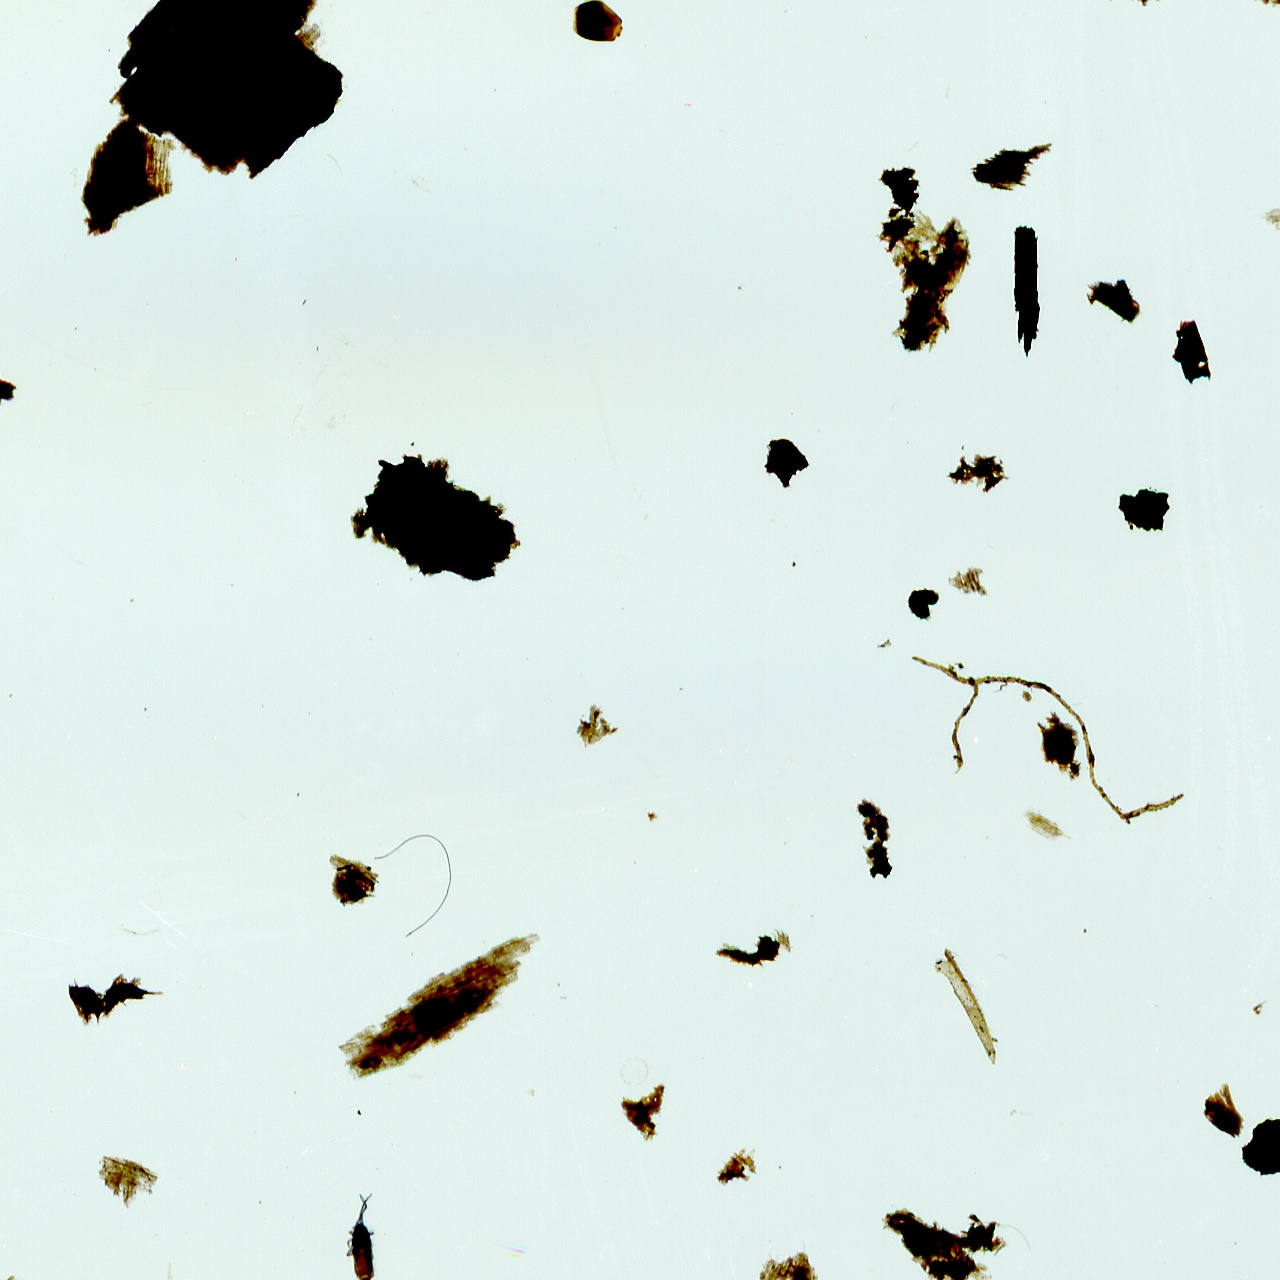arthropod: (343, 1190, 380, 1280)
